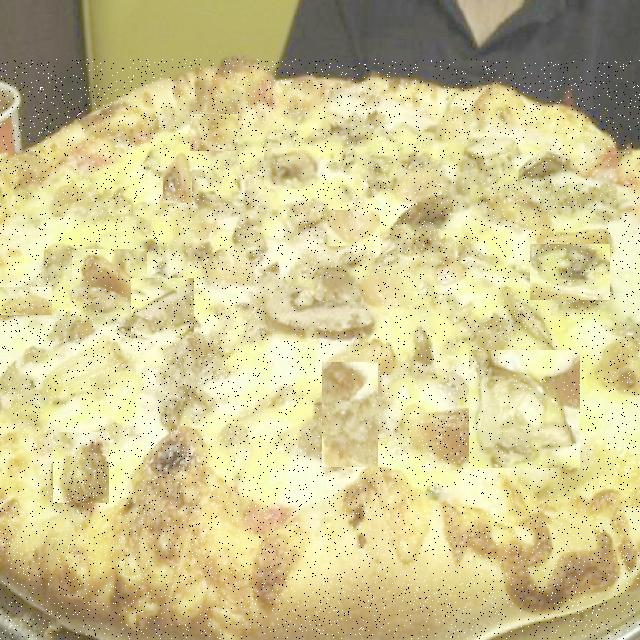Mushrooms: (469, 350, 582, 468), (266, 279, 378, 334), (322, 362, 378, 467), (530, 244, 610, 300), (53, 432, 109, 503), (131, 278, 194, 338), (72, 249, 147, 297), (203, 250, 266, 293), (462, 139, 519, 181), (64, 186, 134, 220), (264, 148, 320, 189), (327, 210, 380, 246), (190, 114, 238, 151), (163, 144, 192, 203), (0, 287, 52, 315), (48, 243, 81, 280)
Pizza: (0, 59, 640, 640)
